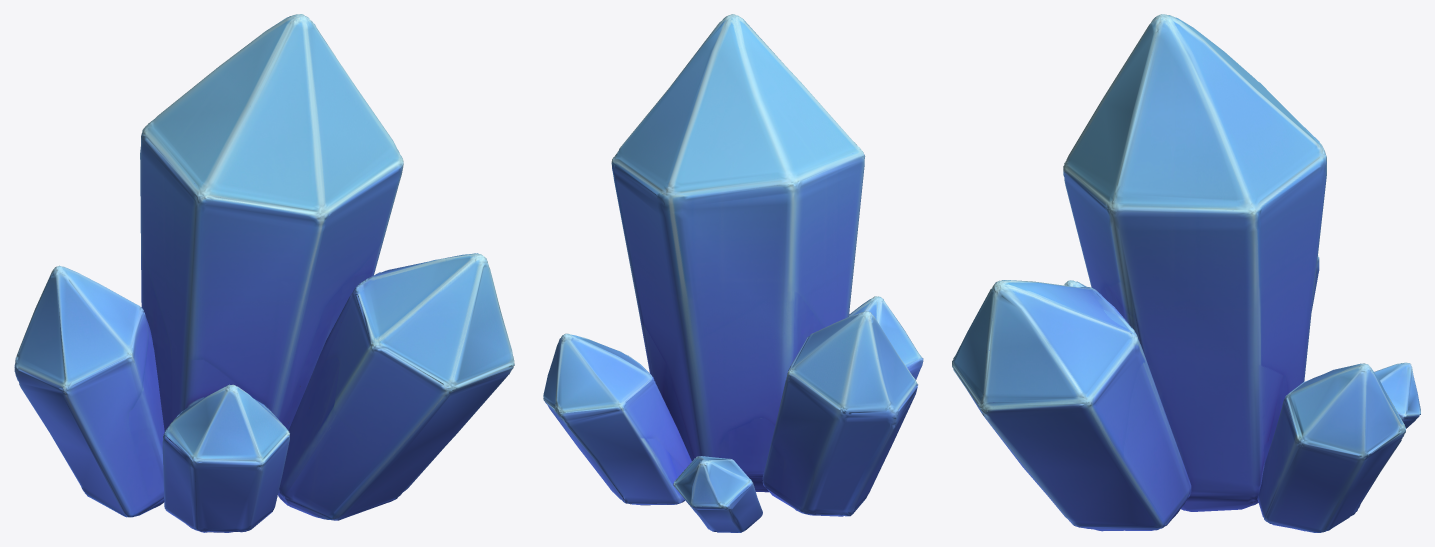
The model's file is mem_ac_crystalblue.fbx.
3 views of the same model, side by side, from view 1: azimuth 30°, elevation 25°; view 2: azimuth 150°, elevation 25°; view 3: azimuth 270°, elevation 25° (orthographic). The views are drawn at different scales.
Visible parts, largest first — view 1: tripo_node_d40ed2a6; view 2: tripo_node_d40ed2a6; view 3: tripo_node_d40ed2a6.
Boxes of the visible parts, left/top/right/bottom form: tripo_node_d40ed2a6: left=14, top=14, right=514, bottom=532; tripo_node_d40ed2a6: left=543, top=14, right=923, bottom=532; tripo_node_d40ed2a6: left=952, top=14, right=1420, bottom=532.
Size of the model in its own units: 0.8301 by 0.998 by 0.8574.
